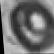correct: (7, 0, 54, 54)
